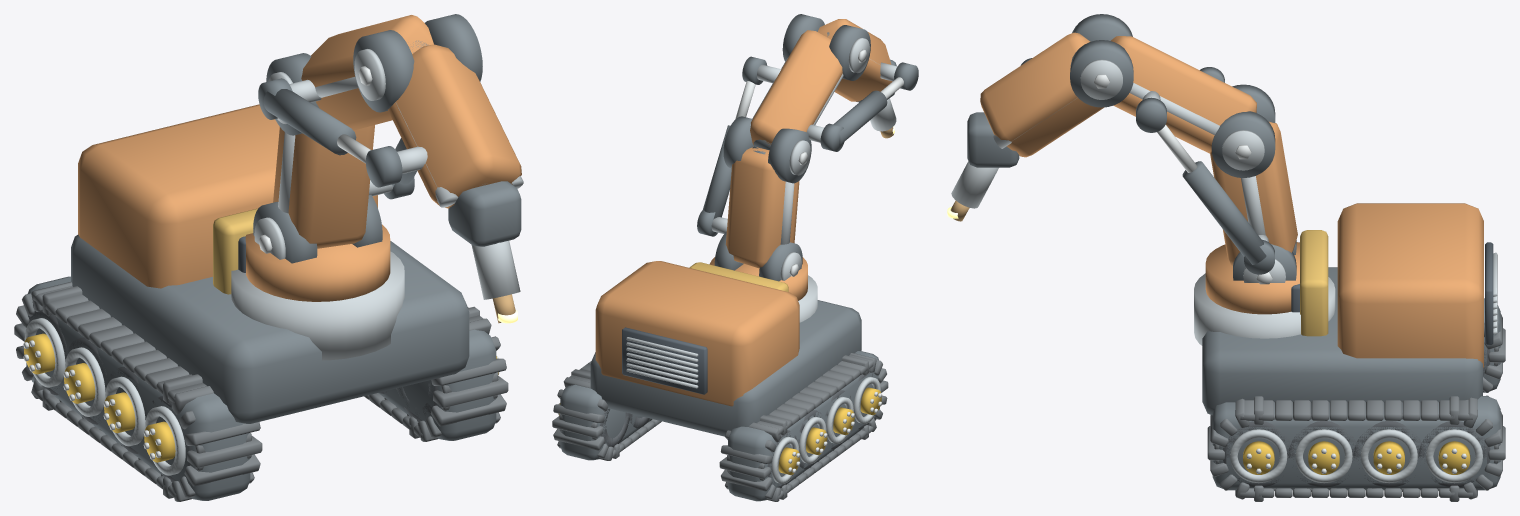
Rendered from forge_enhanced.glb.
3 views of the same model, side by side, from view 1: azimuth 30°, elevation 25°; view 2: azimuth 150°, elevation 25°; view 3: azimuth 270°, elevation 25° (orthographic). The views are drawn at different scales.
Visible parts, largest first — view 1: Frame_frame, PowerPack_orange, LeftTrack_tread, ArmLink2_orange, SlewBearing_steel, ArmLink0_orange, LeftTrack_frame, Turret_orange, ArmLink1_orange, LeftTrack_steel, RightTrack_tread, ArmJoint2_frame (+15 smaller); view 2: PowerPack_orange, Frame_frame, LeftTrack_tread, ArmLink0_orange, ArmLink1_orange, LeftTrack_frame, RearCooling_black, RightTrack_tread, RightTrack_frame, ArmJoint1_frame, Hydraulics_frame, LeftTrack_steel (+18 smaller); view 3: PowerPack_orange, Frame_frame, RightTrack_tread, RightTrack_frame, ArmLink2_orange, ArmLink1_orange, RightTrack_steel, ArmLink0_orange, SlewBearing_steel, Turret_orange, ArmJoint2_frame, RightTrack_paint (+16 smaller).
Boxes of the visible parts, <box> form: Frame_frame: <box>71,234,469,423</box>; PowerPack_orange: <box>78,104,377,288</box>; LeftTrack_tread: <box>14,282,262,501</box>; ArmLink2_orange: <box>388,44,521,208</box>; SlewBearing_steel: <box>231,251,404,360</box>; ArmLink0_orange: <box>273,125,374,248</box>; LeftTrack_frame: <box>26,276,250,500</box>; Turret_orange: <box>245,224,390,301</box>; ArmLink1_orange: <box>301,15,433,130</box>; LeftTrack_steel: <box>24,318,185,475</box>; RightTrack_tread: <box>364,306,508,441</box>; ArmJoint2_frame: <box>353,14,482,112</box>; PowerPack_orange: <box>595,261,799,406</box>; Frame_frame: <box>590,300,861,436</box>; LeftTrack_tread: <box>719,353,888,501</box>; ArmLink0_orange: <box>725,147,799,268</box>; ArmLink1_orange: <box>750,30,842,145</box>; LeftTrack_frame: <box>728,351,879,501</box>; RearCooling_black: <box>622,327,707,394</box>; RightTrack_tread: <box>552,361,661,460</box>; RightTrack_frame: <box>560,384,652,460</box>; ArmJoint1_frame: <box>723,116,811,183</box>; Hydraulics_frame: <box>703,90,887,219</box>; LeftTrack_steel: <box>771,377,881,483</box>; PowerPack_orange: <box>1337,203,1483,367</box>; Frame_frame: <box>1202,267,1482,415</box>; RightTrack_tread: <box>1207,395,1505,501</box>; RightTrack_frame: <box>1212,396,1500,490</box>; ArmLink2_orange: <box>980,32,1104,157</box>; ArmLink1_orange: <box>1111,36,1256,153</box>; RightTrack_steel: <box>1230,429,1482,483</box>; ArmLink0_orange: <box>1210,121,1297,265</box>; SlewBearing_steel: <box>1194,273,1335,345</box>; Turret_orange: <box>1205,242,1299,314</box>; ArmJoint2_frame: <box>1070,14,1133,107</box>; RightTrack_paint: <box>1243,441,1470,474</box>.
Size of the model in its own units: 1.36 by 1.91 by 2.37.
